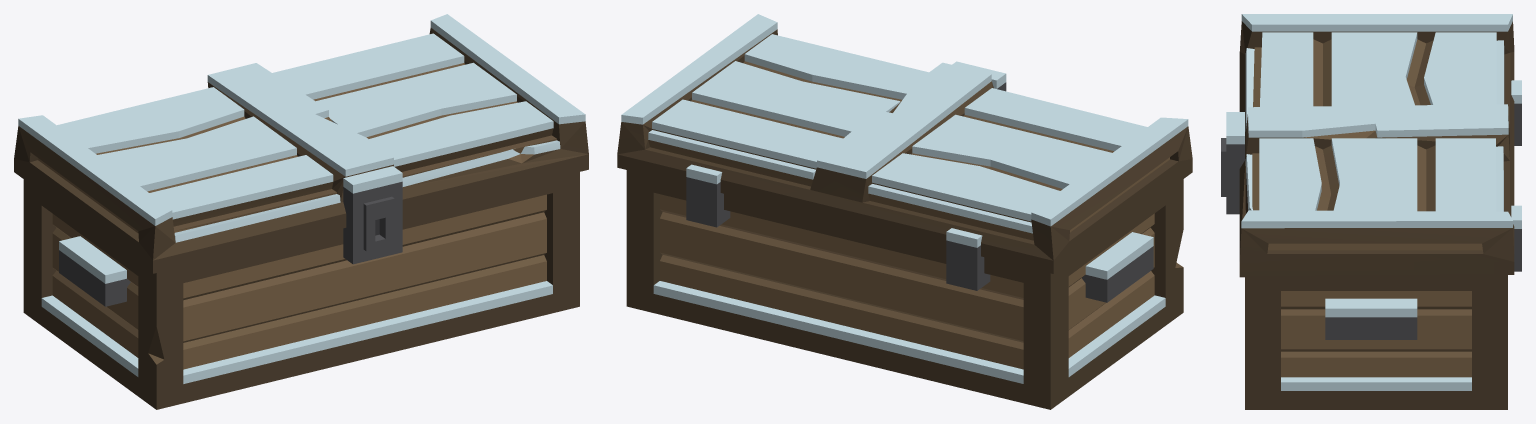
File: Cofre.glb
3 views of the same model, side by side, from view 1: azimuth 30°, elevation 25°; view 2: azimuth 150°, elevation 25°; view 3: azimuth 270°, elevation 25° (orthographic).
Parts seen in each view (by area): view 1: SM_Prop_Chest_Lid_01_Snow, SM_Prop_Chest_01_Snow; view 2: SM_Prop_Chest_Lid_01_Snow, SM_Prop_Chest_01_Snow; view 3: SM_Prop_Chest_Lid_01_Snow, SM_Prop_Chest_01_Snow.
Boxes of the visible parts, <box> form: SM_Prop_Chest_Lid_01_Snow: <box>14,14,588,273</box>; SM_Prop_Chest_01_Snow: <box>23,166,579,409</box>; SM_Prop_Chest_Lid_01_Snow: <box>617,14,1192,273</box>; SM_Prop_Chest_01_Snow: <box>626,61,1183,409</box>; SM_Prop_Chest_Lid_01_Snow: <box>1239,14,1514,277</box>; SM_Prop_Chest_01_Snow: <box>1221,80,1521,409</box>.
Size of the model in its own units: 1.23 by 0.511 by 0.7314.
Materials: 1 (1 with a texture image).
